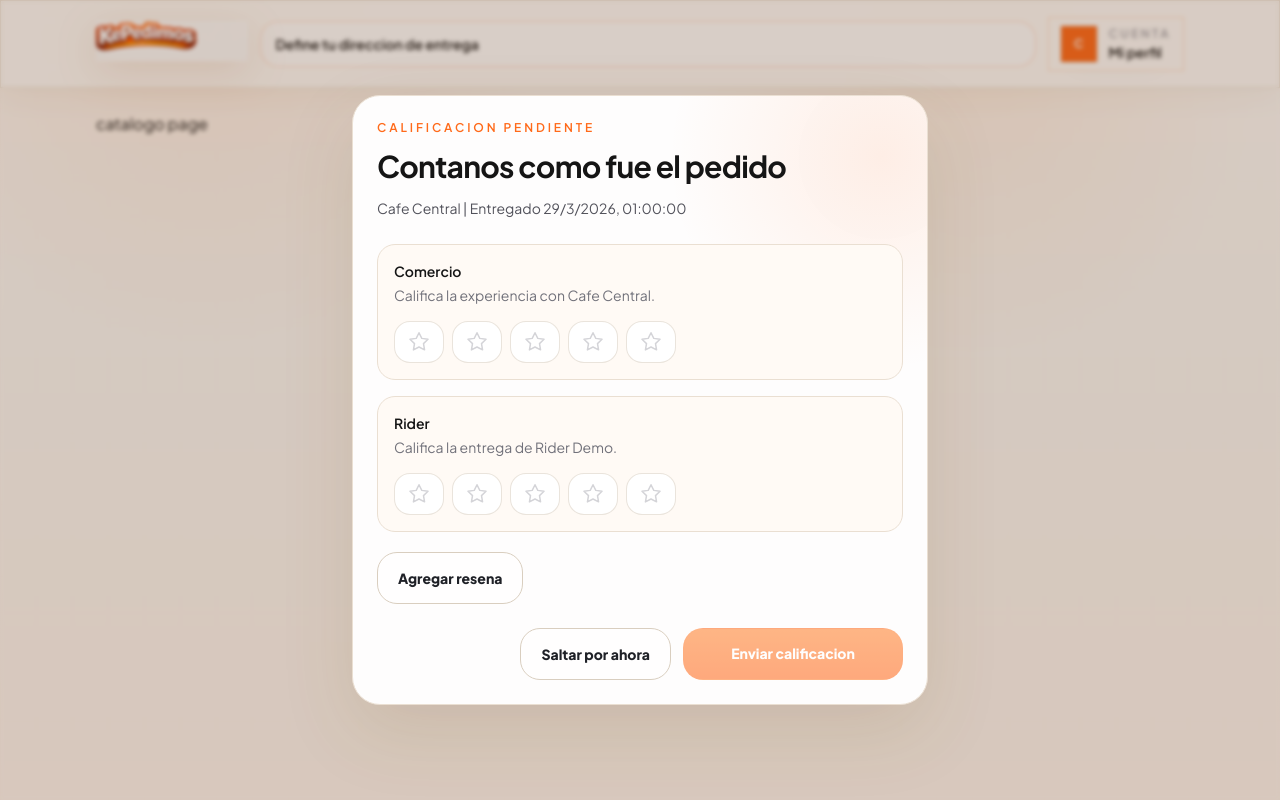
Scenario: ClienteLayout › despliega el textarea opcional al pulsar Agregar resena
Expected: the heading "Contanos como fue el pedido" is shown, [377,147,786,185]
Expected: the field with placeholder "Cuenta brevemente como fue tu experiencia." is not shown
Click the button "Agregar resena" at (450, 578), box [377,552,523,604]
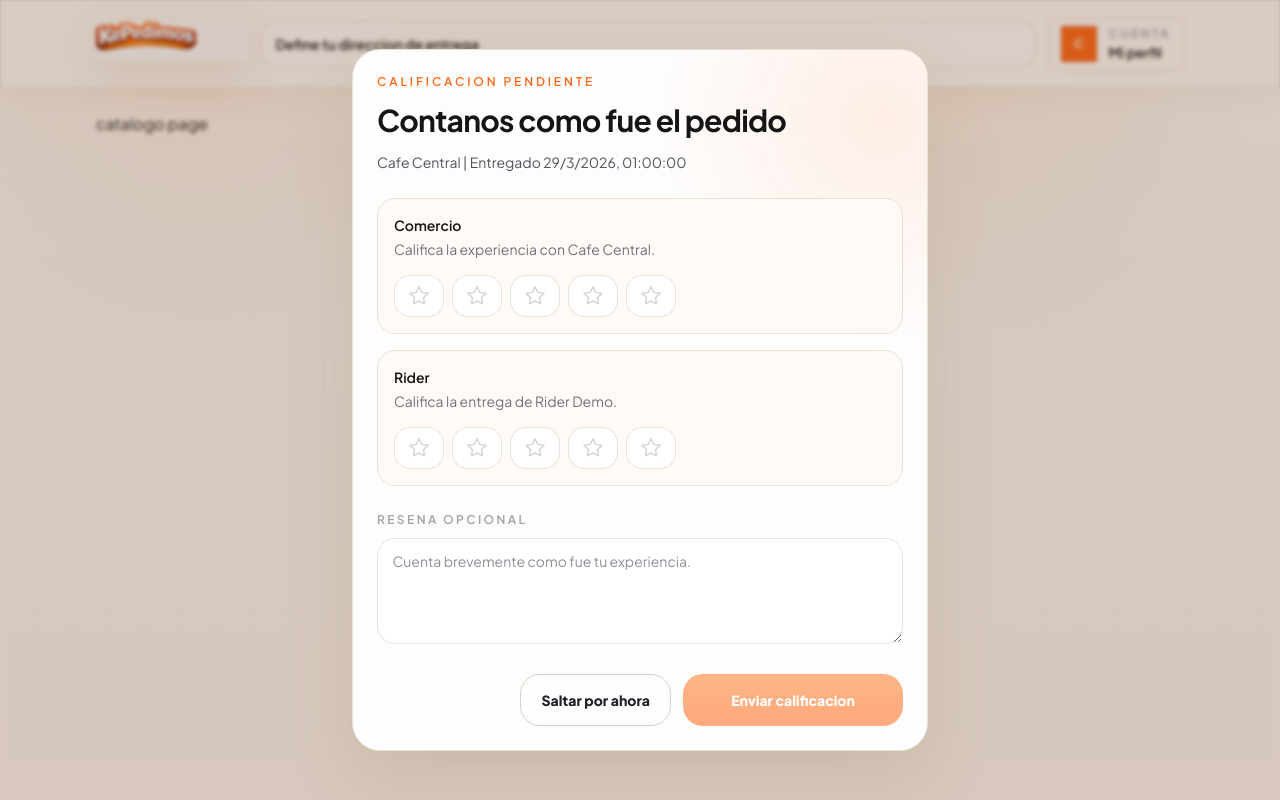
Expected: the text box with placeholder "Cuenta brevemente como fue tu experiencia." is shown, [377,538,903,644]
